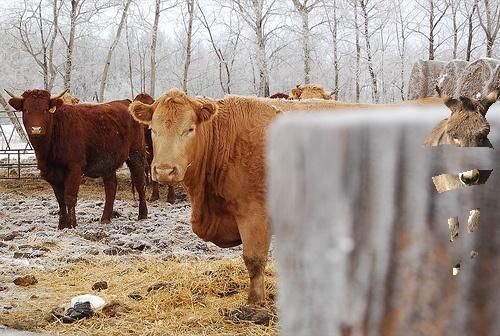tampered: (423, 86, 500, 275)
